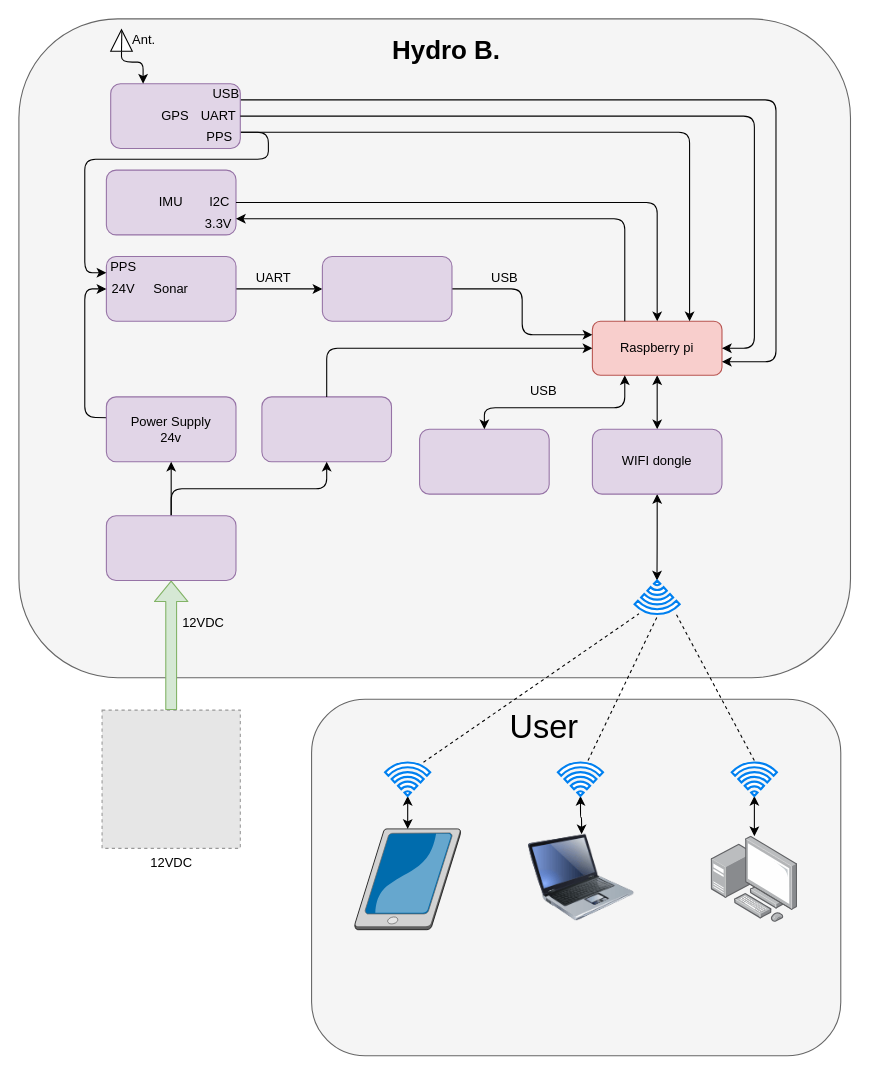
This 869x1075 diagram has some shape labels left out. Grey dashed boxes stand in for pictures. Here are the shapes that lost their labels. From the top down, the centre of each, then its label:
At point 386,288: "Rs232 Isolator".
At point 326,429: "Power Supply 5v".
At point 483,461: "External Memory".
At point 170,547: "Protection Fuse/Polarity".
